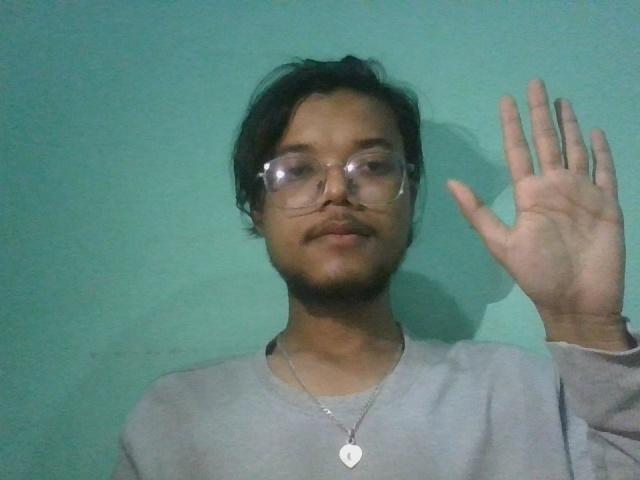hello: (443, 67, 639, 350)
